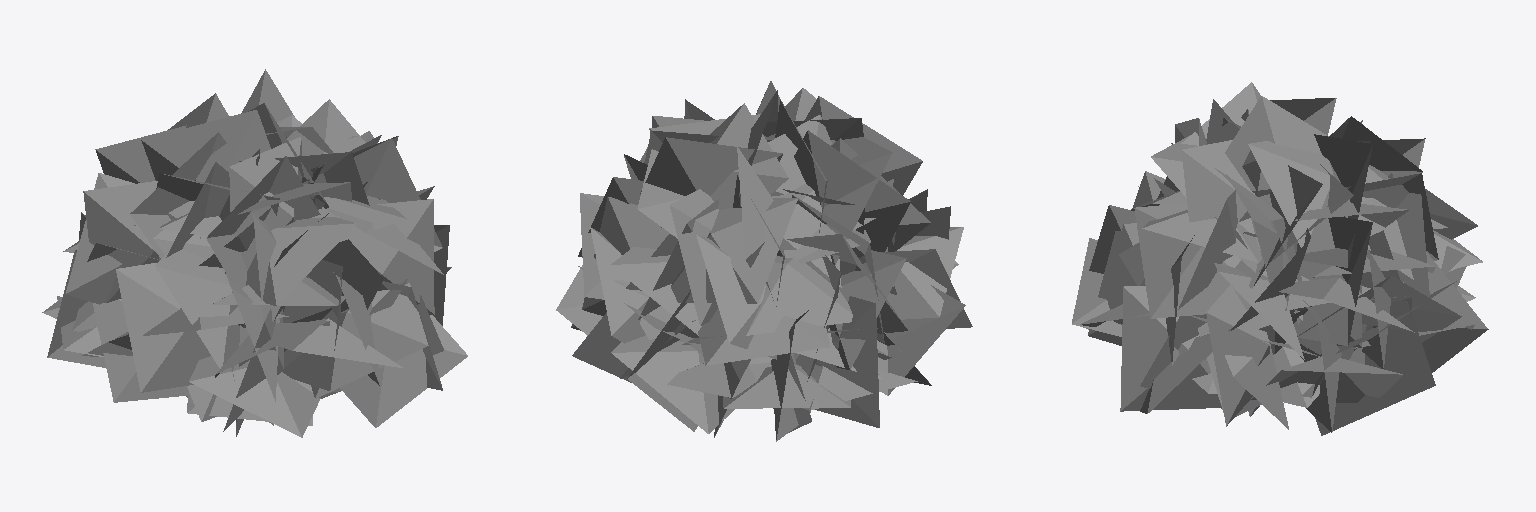
3 renders of one model, left to right at view 1: azimuth 30°, elevation 25°; view 2: azimuth 150°, elevation 25°; view 3: azimuth 270°, elevation 25°, orthographic.
Parts seen in each view (by area): view 1: ms_001, ms_002; view 2: ms_001, ms_002; view 3: ms_001, ms_002.
Boxes of the visible parts, box(x1,y1,x2,y2) form: ms_001: box(42, 69, 467, 437); ms_002: box(186, 182, 443, 425); ms_001: box(556, 81, 972, 441); ms_002: box(572, 234, 877, 432); ms_001: box(1072, 82, 1488, 432); ms_002: box(1119, 173, 1465, 435).
Size of the model in its own units: 168 by 149 by 176.